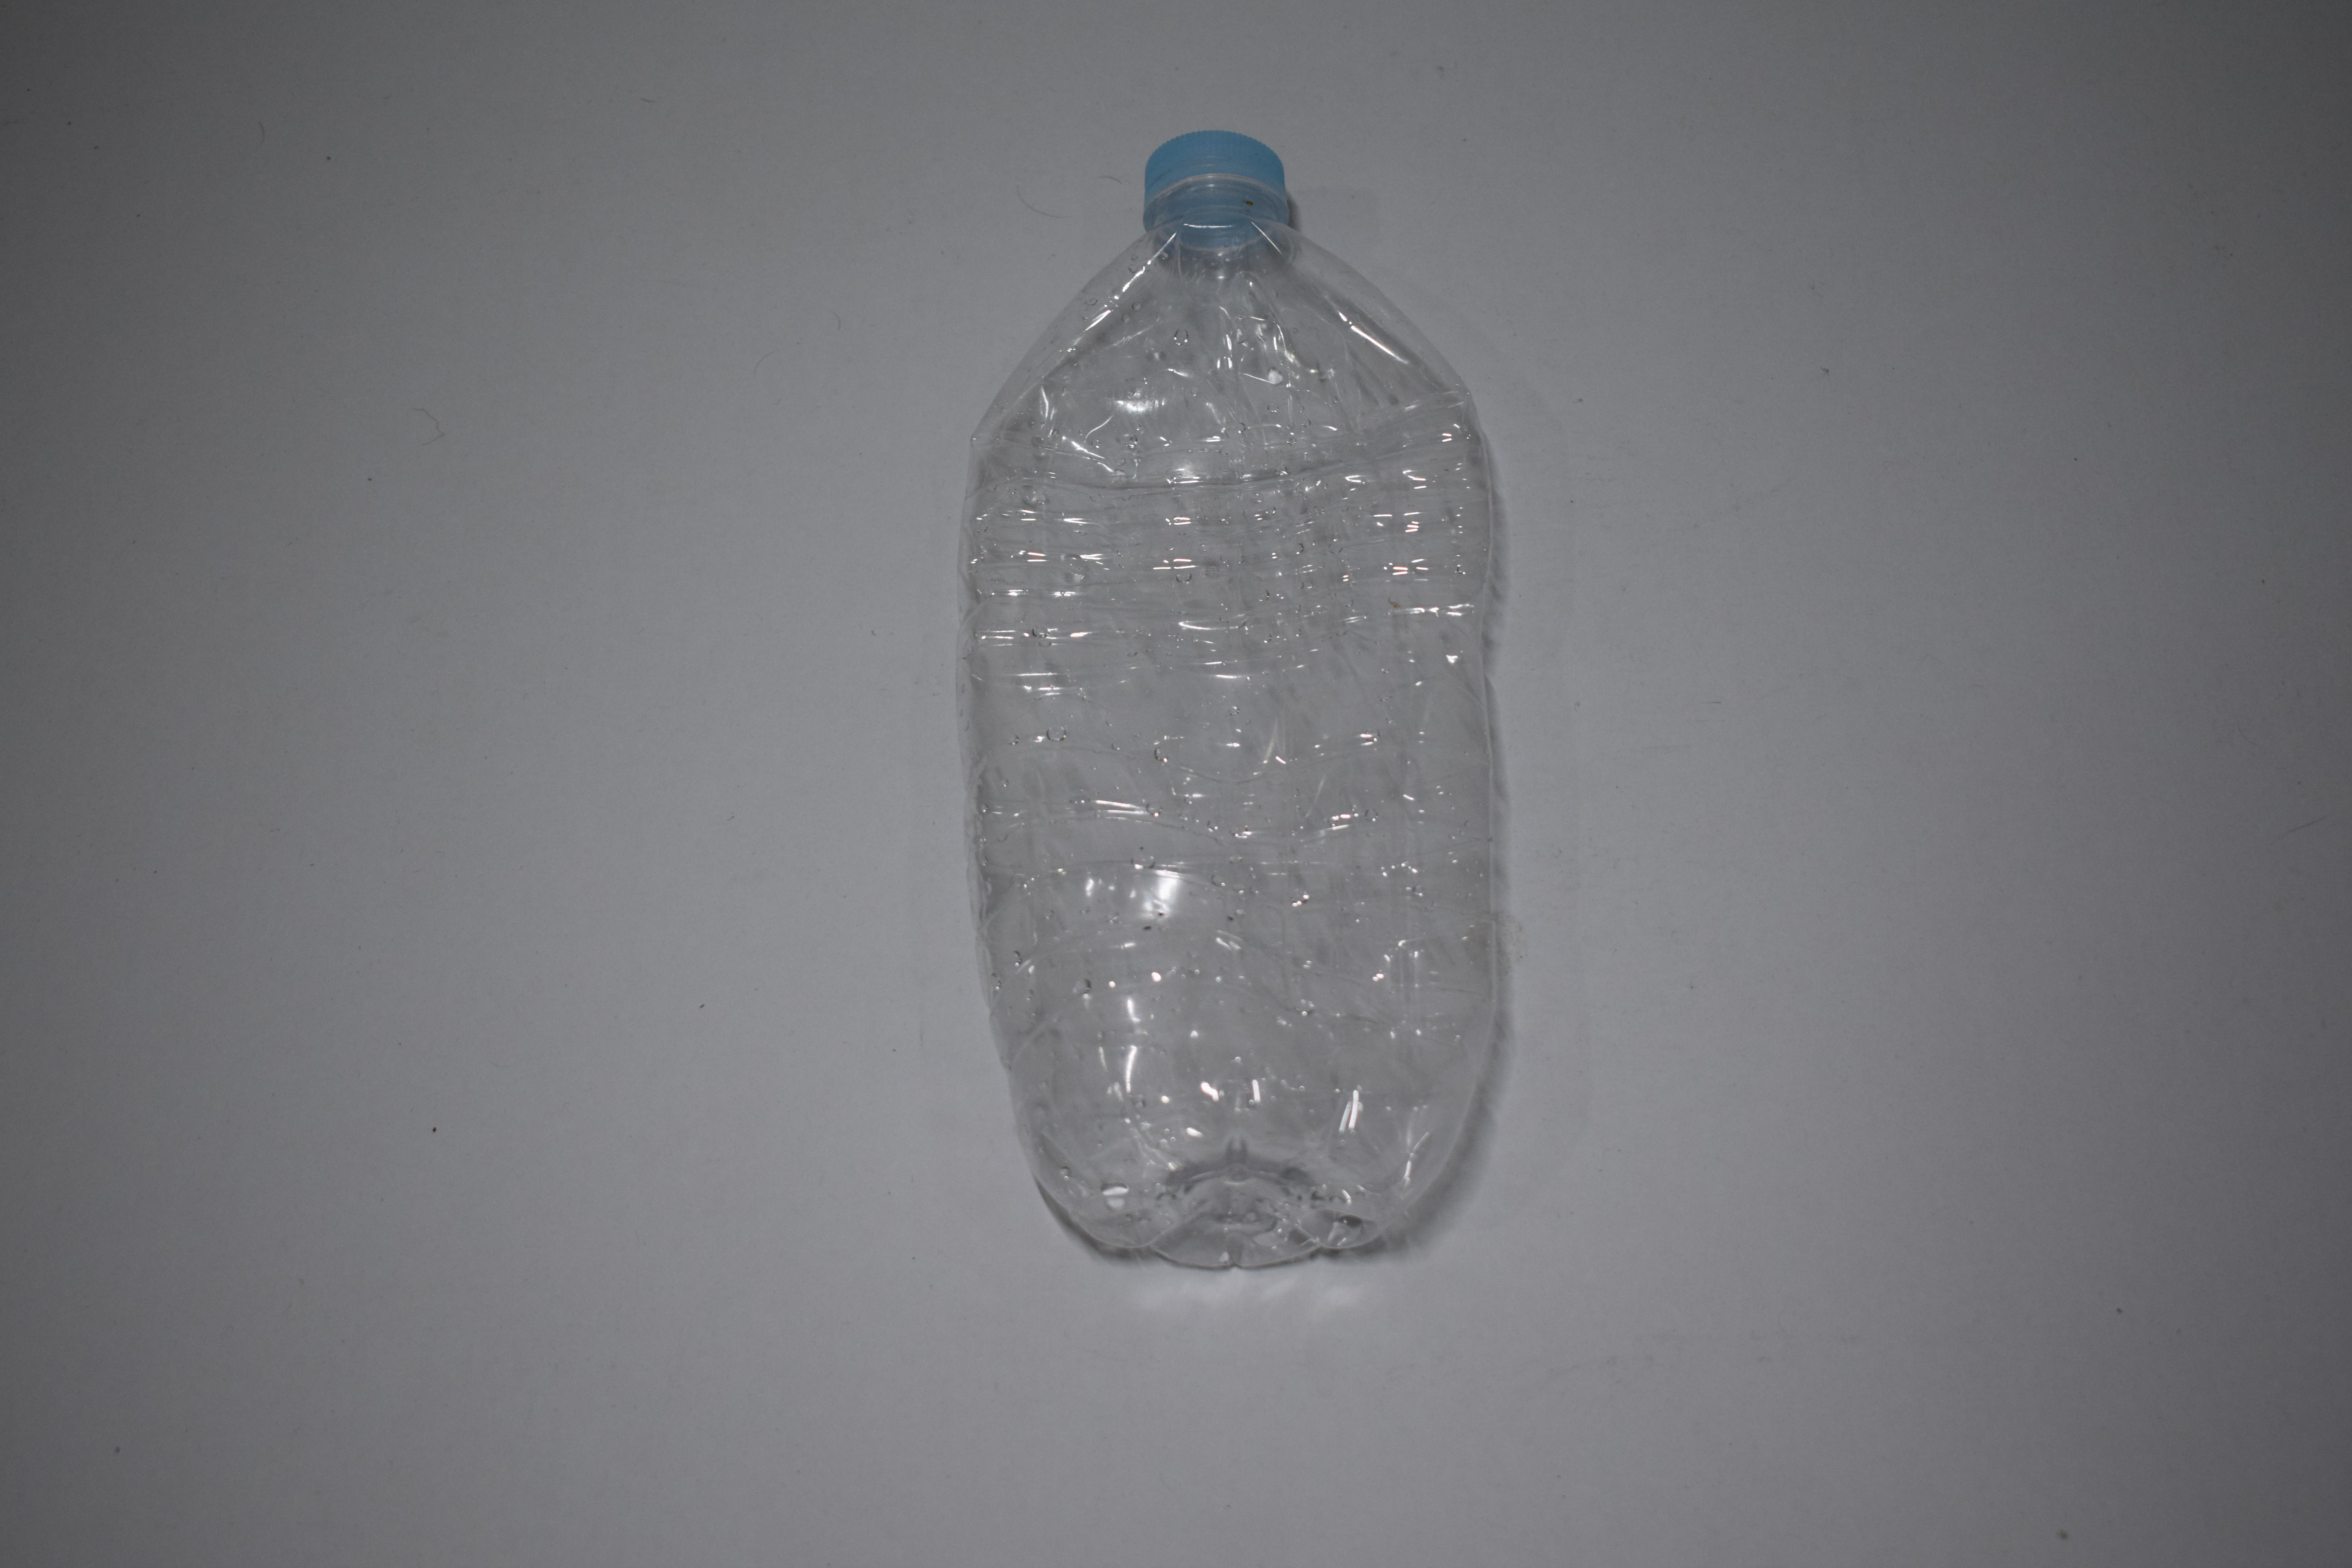bottle: (0, 122, 345, 1269)
